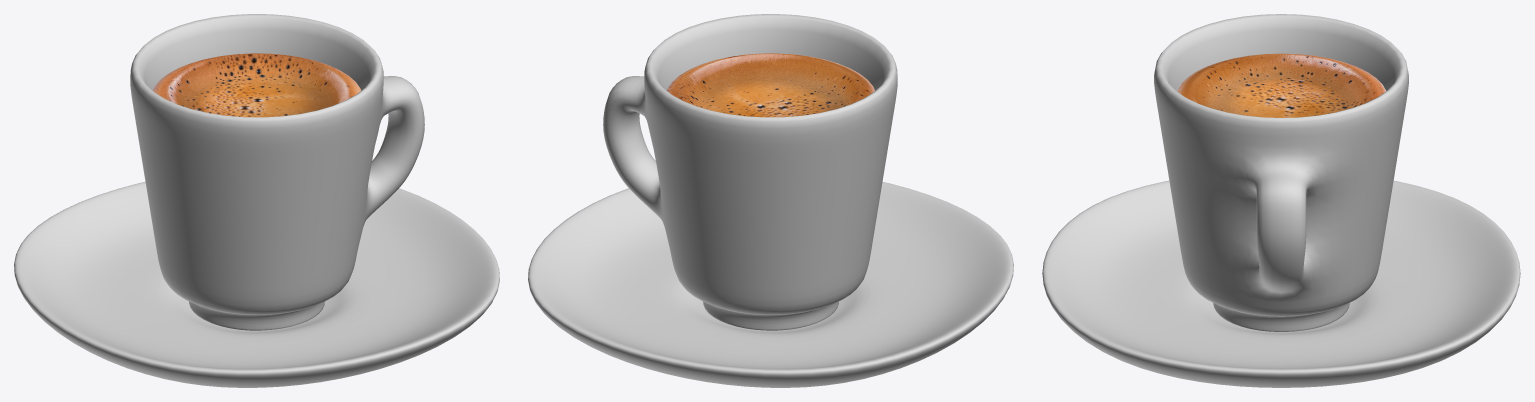
Rendered from espresso.glb.
The picture shows the model from 3 angles, left to right: view 1: azimuth 30°, elevation 25°; view 2: azimuth 150°, elevation 25°; view 3: azimuth 270°, elevation 25°; orthographic projection.
Visible parts, largest first — view 1: Cup, Plate, Coffee; view 2: Cup, Plate, Coffee; view 3: Cup, Plate, Coffee.
Boxes of the visible parts, left/top/right/bottom form: Cup: left=130, top=14, right=424, bottom=330; Plate: left=14, top=181, right=499, bottom=387; Coffee: left=153, top=53, right=360, bottom=117; Cup: left=603, top=14, right=897, bottom=330; Plate: left=528, top=181, right=1013, bottom=387; Coffee: left=667, top=53, right=874, bottom=117; Cup: left=1154, top=14, right=1408, bottom=331; Plate: left=1042, top=180, right=1520, bottom=387; Coffee: left=1177, top=53, right=1385, bottom=117.
Size of the model in its own units: 11.75 by 7.13 by 11.75.
Materials: 2 (1 with a texture image).
